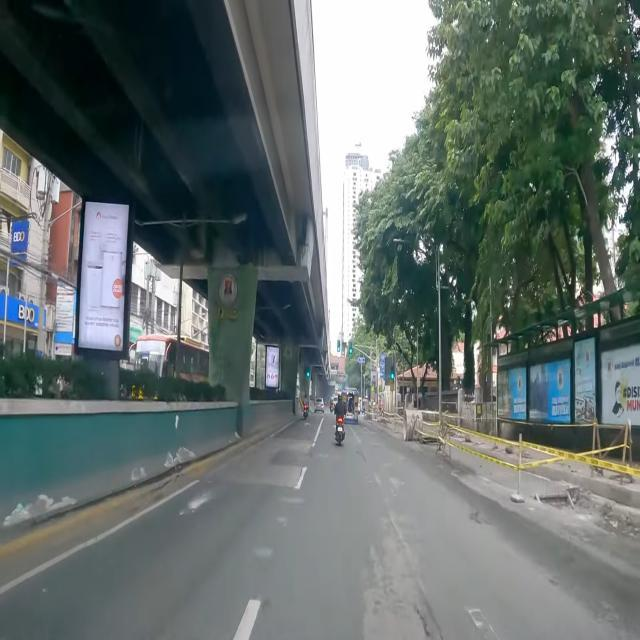car: (314, 398, 325, 413)
jeepney: (342, 387, 359, 424)
motorcycle: (334, 394, 346, 444), (303, 392, 309, 420), (330, 397, 334, 413)
